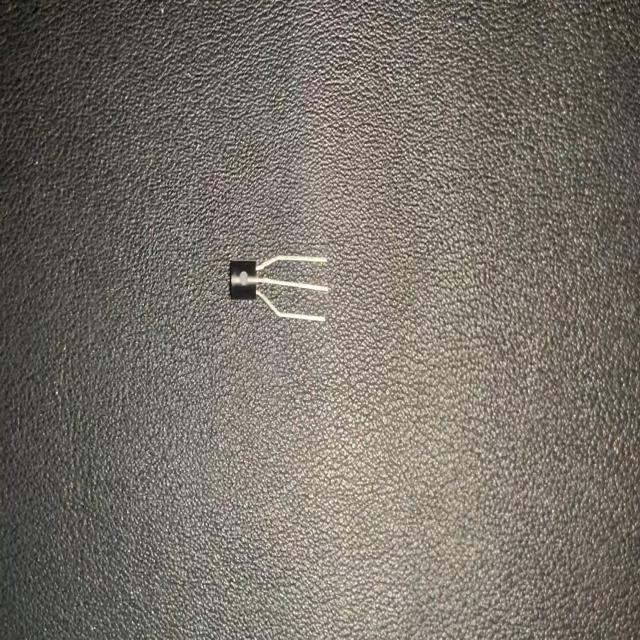BJT: (225, 249, 329, 330)
